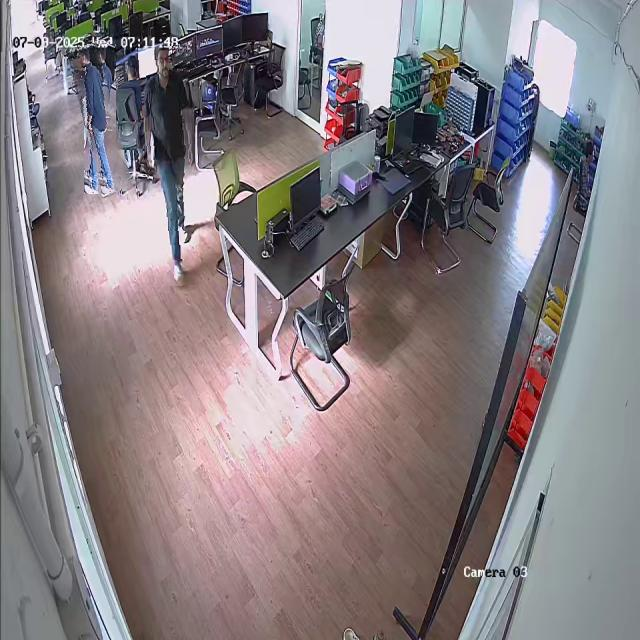person: (142, 46, 198, 286), (75, 43, 125, 195)
